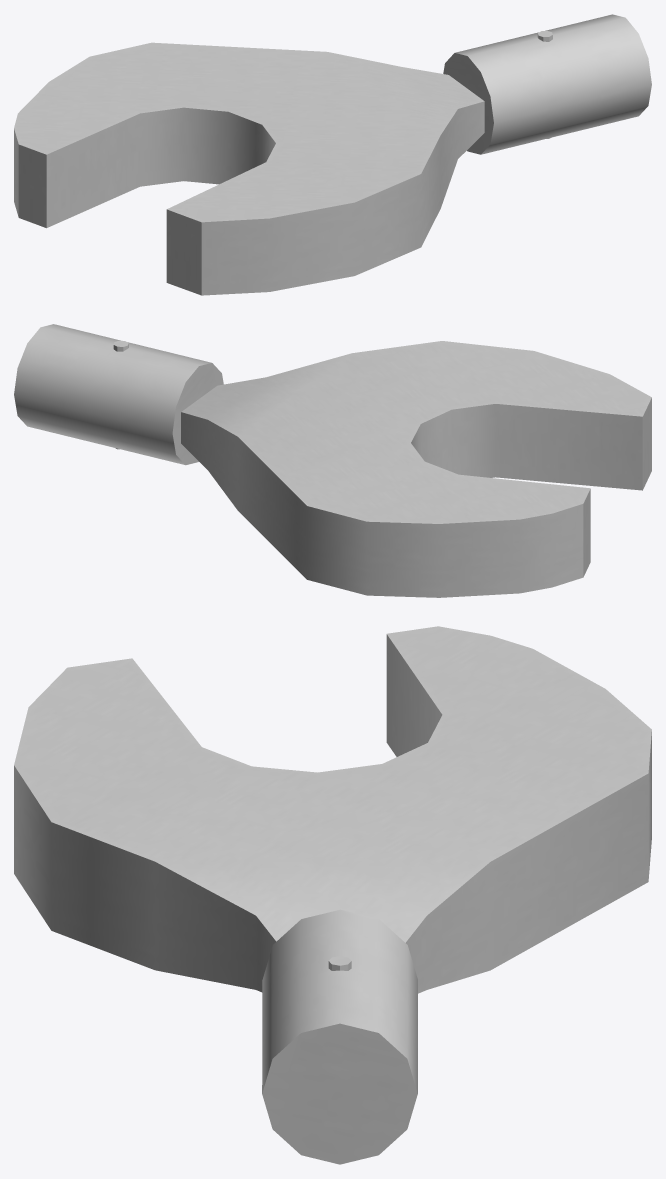
File: tool_torque_wrench_nozzle_04.glb
3 views of the same model, one above another, from view 1: azimuth 30°, elevation 25°; view 2: azimuth 150°, elevation 25°; view 3: azimuth 270°, elevation 25° (orthographic). The views are drawn at different scales.
Visible parts, largest first — view 1: tool_torque_wrench_nozzle_04; view 2: tool_torque_wrench_nozzle_04; view 3: tool_torque_wrench_nozzle_04.
Boxes of the visible parts, left/top/right/bottom form: tool_torque_wrench_nozzle_04: left=14, top=14, right=651, bottom=295; tool_torque_wrench_nozzle_04: left=14, top=324, right=651, bottom=597; tool_torque_wrench_nozzle_04: left=14, top=626, right=651, bottom=1164.
Size of the model in its own units: 0.0792 by 0.0135 by 0.0516.
1 material, 1 textured.
